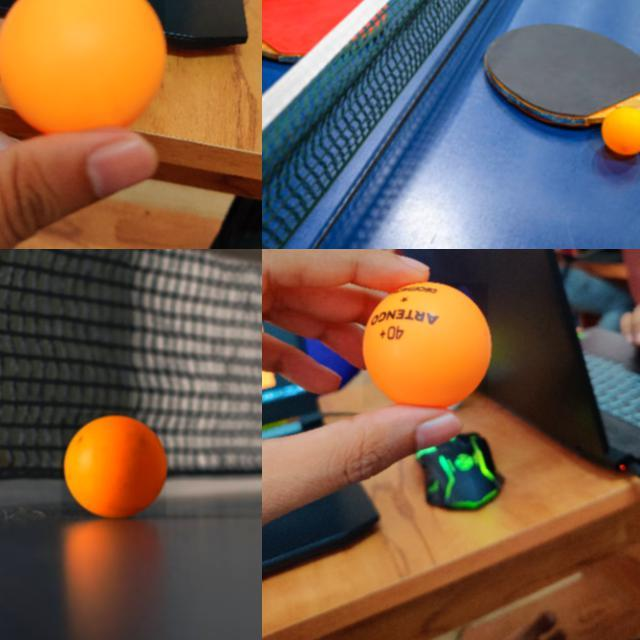ping-pong-ball: (0, 0, 167, 135), (363, 283, 489, 409), (61, 413, 167, 517), (601, 106, 639, 155)
